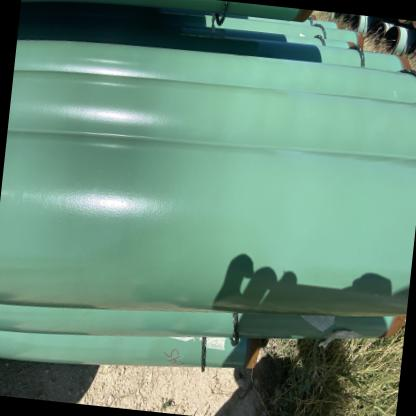clean: (101, 172, 147, 223)
